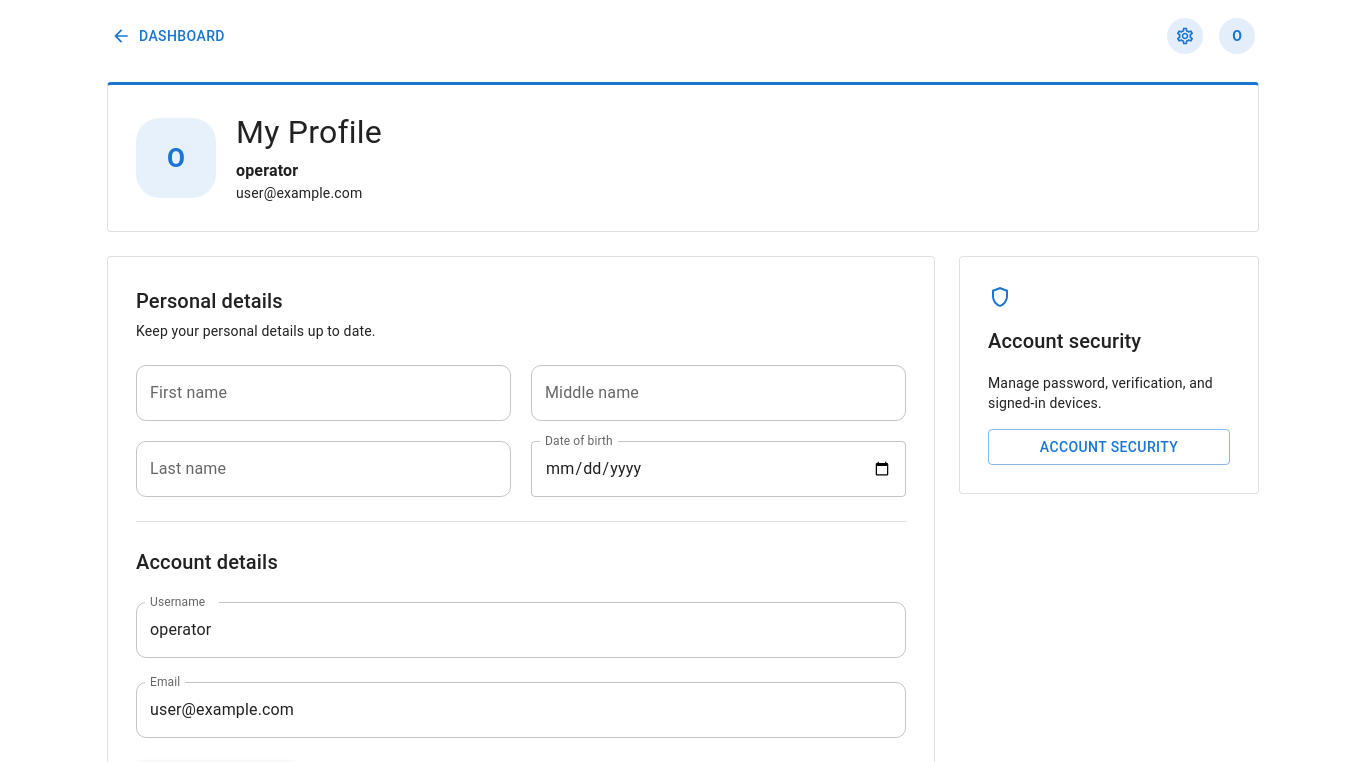
Test: avatar menu opens profile actions and sign-out can retry after a failure
(page scrolled)
Click the button named "Account menu" at (1237, 36), box [1215,14,1259,58]
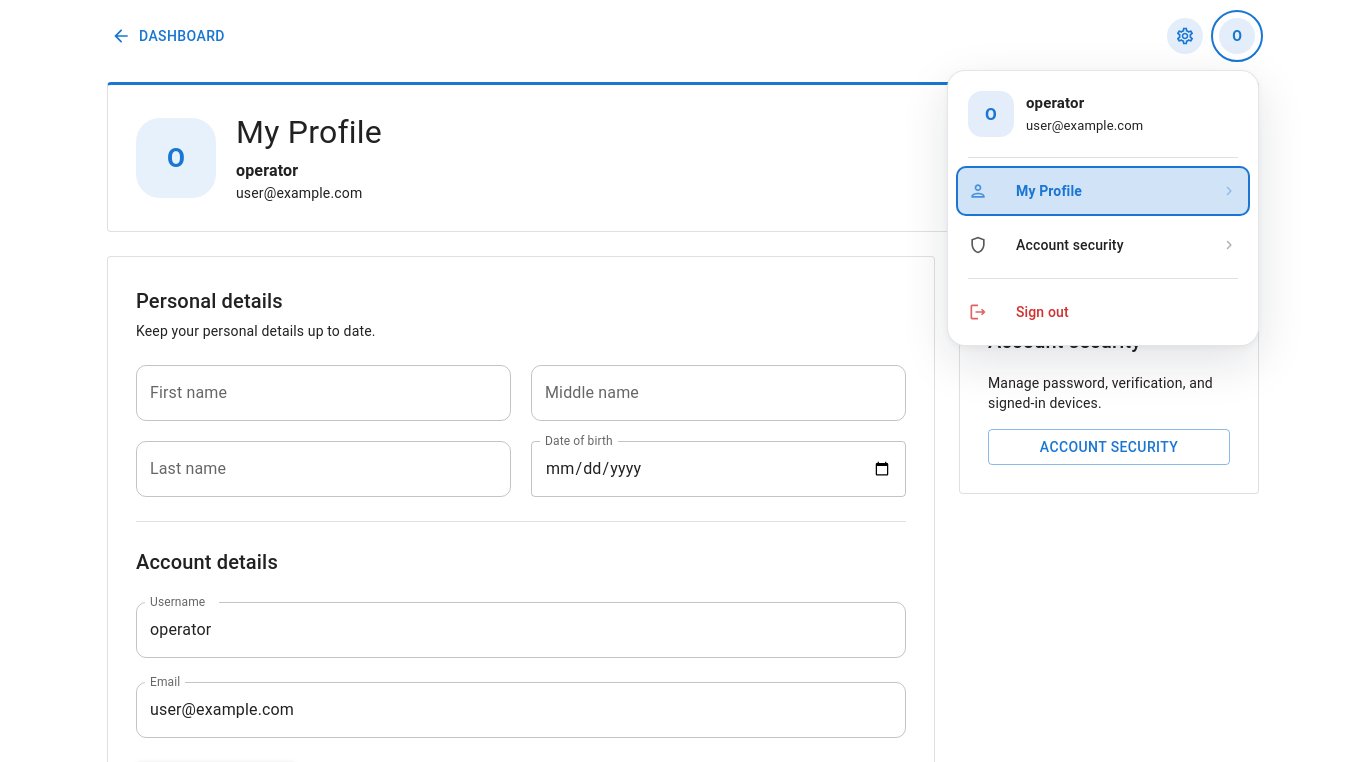
Click the menu item "Sign out" at (1018, 312), box [968,302,1069,322]
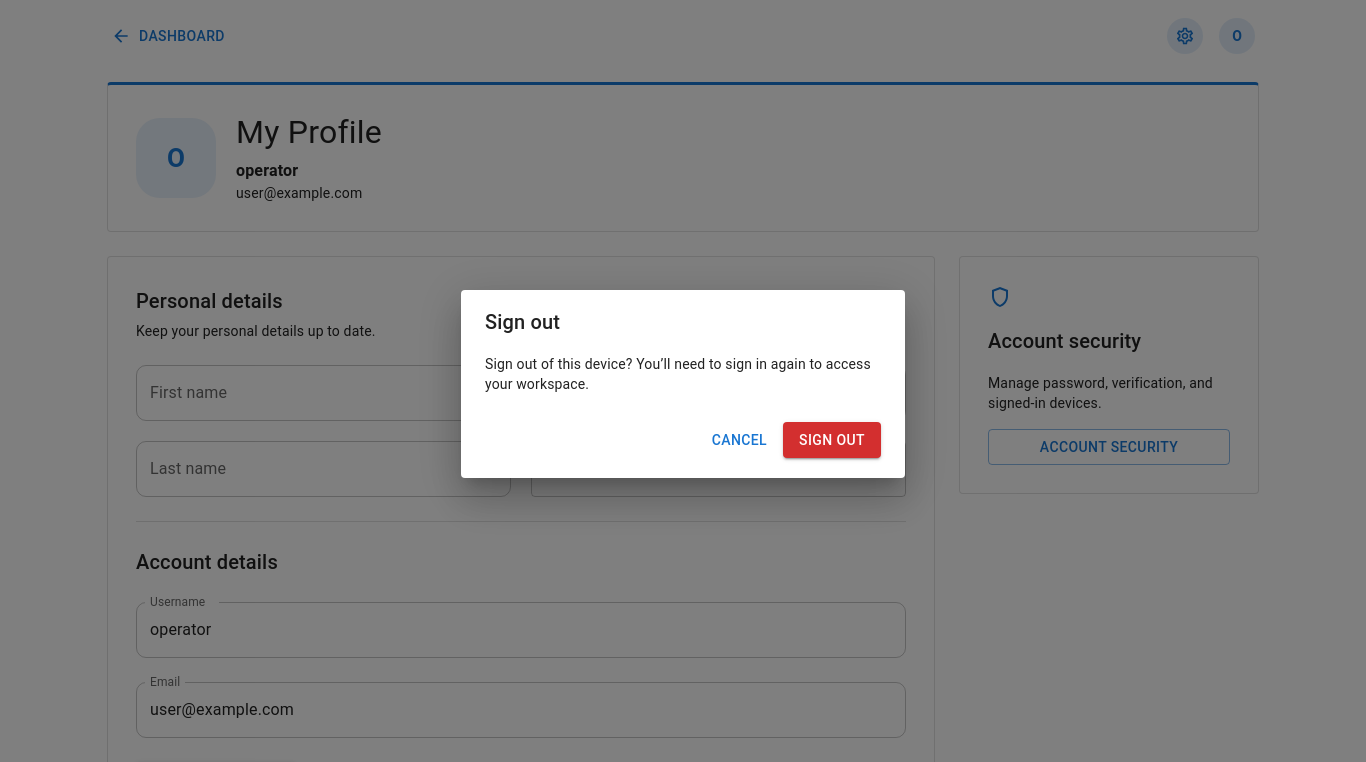
Click the button "Sign out" at (832, 440), box [783,422,881,458]
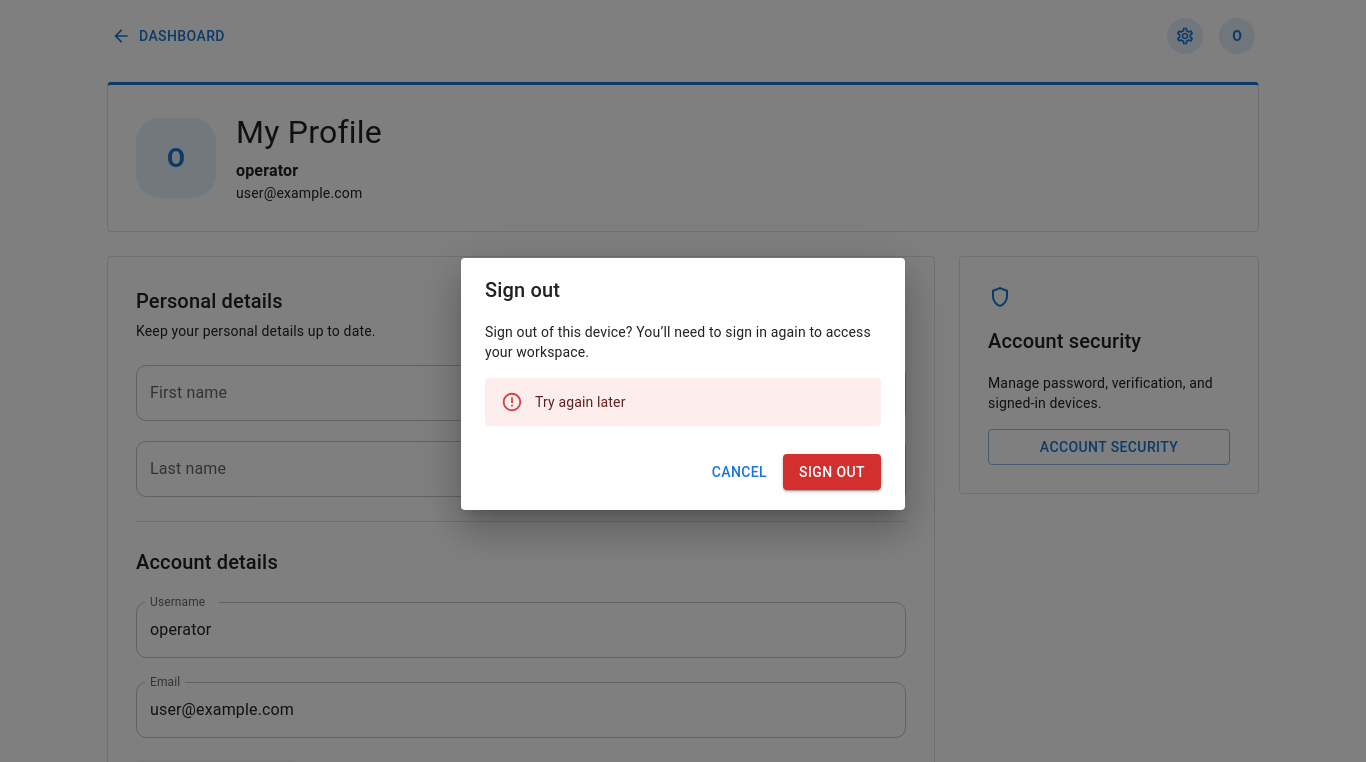
Result: the message "Try again later" is shown at [485,378,881,426]
Click the button "Sign out" at (832, 472), box [783,454,881,490]
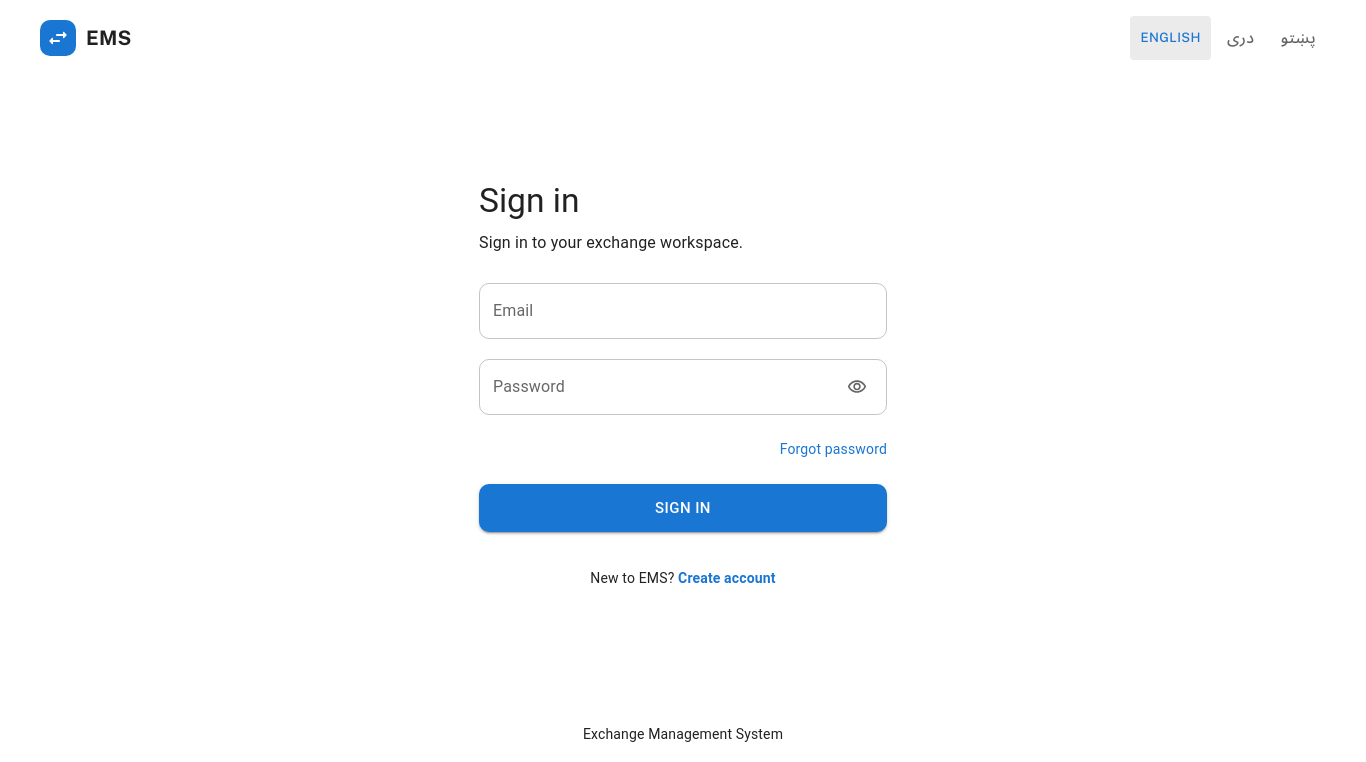
Result: the button "Sign in" is shown at [479,484,887,532]
